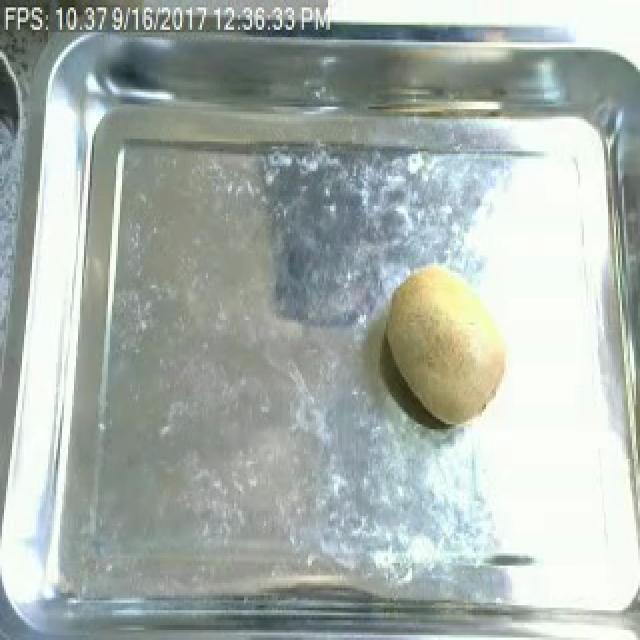Fruit: (376, 258, 520, 434)
